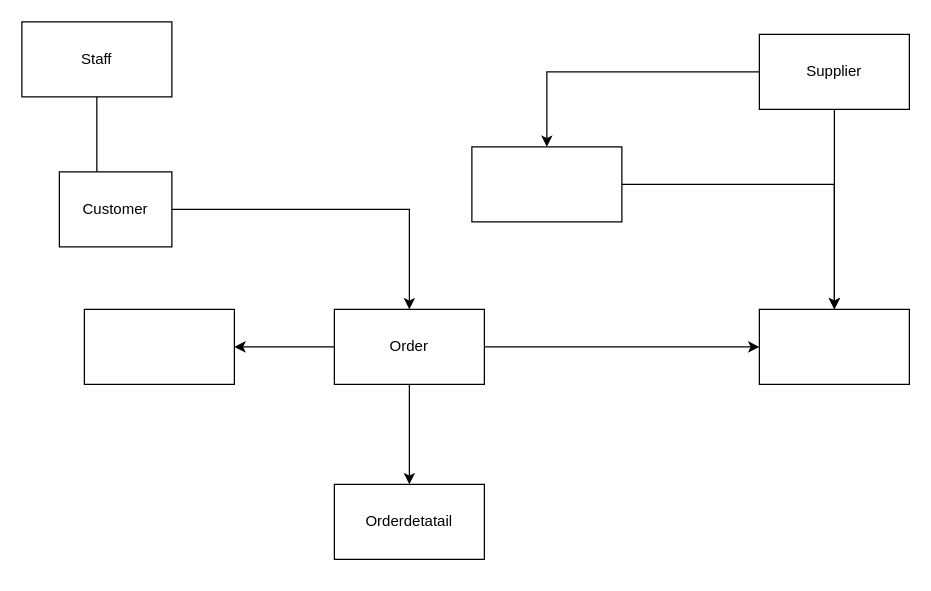
Image size: 931x591. Some labels were removed from this diagram. The centre of each missing label's shape, as x and y in pixels:
"Categories" belongs at point (546, 184).
"Product" belongs at point (833, 346).
"Shipper" belongs at point (158, 346).
